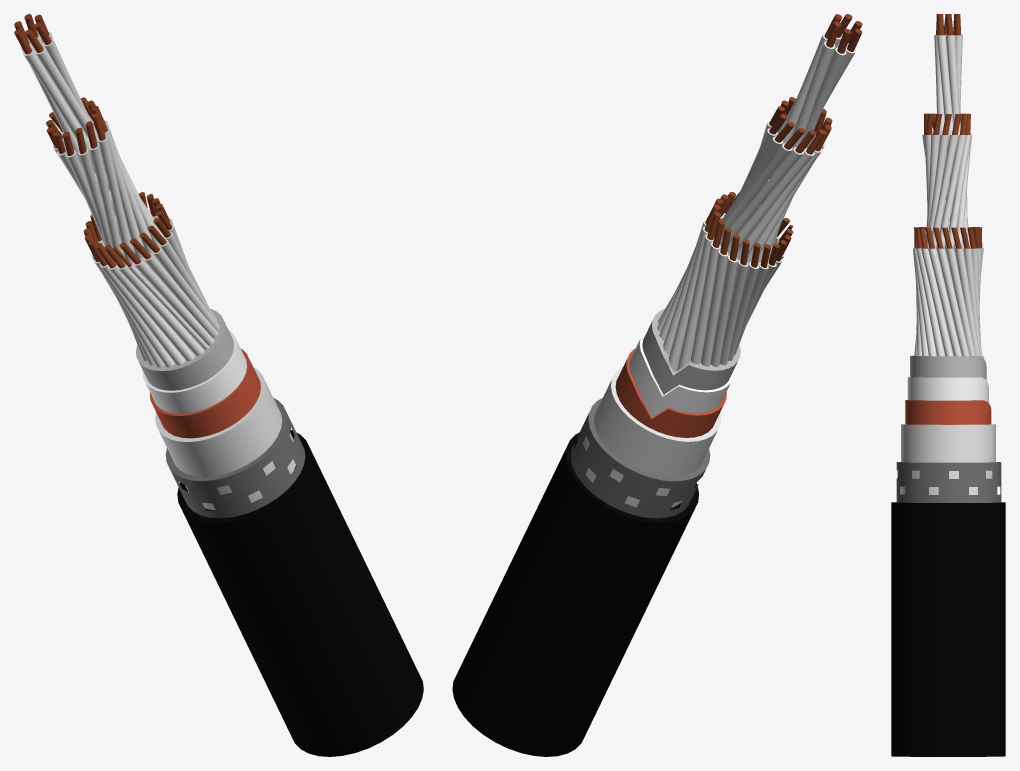
The model's file is wire.glb.
3 views of the same model, side by side, from view 1: azimuth 30°, elevation 25°; view 2: azimuth 150°, elevation 25°; view 3: azimuth 270°, elevation 25° (orthographic). The views are drawn at different scales.
Parts seen in each view (by area): view 1: Cylinder001, Cylinder067, Cylinder002, Cylinder003, Cylinder072, Cylinder004, Cylinder006, Cylinder005; view 2: Cylinder001, Cylinder067, Cylinder002, Cylinder003, Cylinder072, Cylinder006, Cylinder005, Cylinder004; view 3: Cylinder001, Cylinder067, Cylinder003, Cylinder002, Cylinder072, Cylinder004, Cylinder005, Cylinder006.
Part boxes in pixels (<box>): Cylinder001: <box>177,430,423,756</box>; Cylinder067: <box>20,31,219,367</box>; Cylinder002: <box>165,398,305,518</box>; Cylinder003: <box>155,367,295,510</box>; Cylinder072: <box>14,14,172,268</box>; Cylinder004: <box>149,349,260,438</box>; Cylinder006: <box>136,309,233,390</box>; Cylinder005: <box>142,329,247,413</box>; Cylinder001: <box>452,432,698,756</box>; Cylinder067: <box>657,33,855,371</box>; Cylinder002: <box>570,398,710,518</box>; Cylinder003: <box>583,367,721,507</box>; Cylinder072: <box>704,14,862,267</box>; Cylinder006: <box>642,308,740,394</box>; Cylinder005: <box>629,329,733,417</box>; Cylinder004: <box>615,348,726,437</box>; Cylinder001: <box>891,502,1005,756</box>; Cylinder067: <box>913,35,983,356</box>; Cylinder003: <box>901,424,995,494</box>; Cylinder002: <box>896,462,1001,502</box>; Cylinder072: <box>914,14,982,248</box>; Cylinder004: <box>905,400,991,424</box>; Cylinder005: <box>907,377,988,402</box>; Cylinder006: <box>910,355,986,380</box>.
Size of the model in its own units: 0.6428 by 1.23 by 0.1995.
